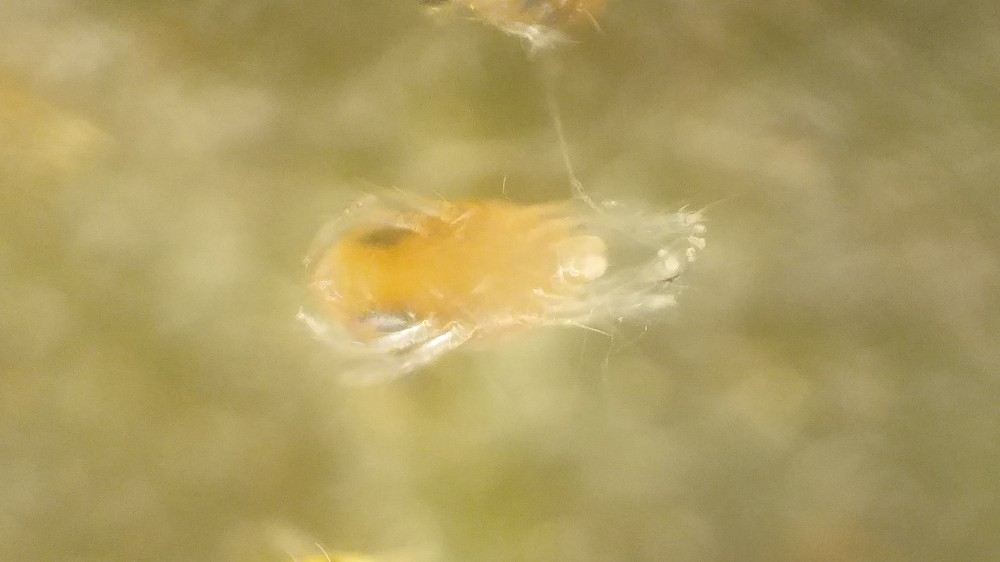Aracnido Rojo: (291, 152, 733, 390)
